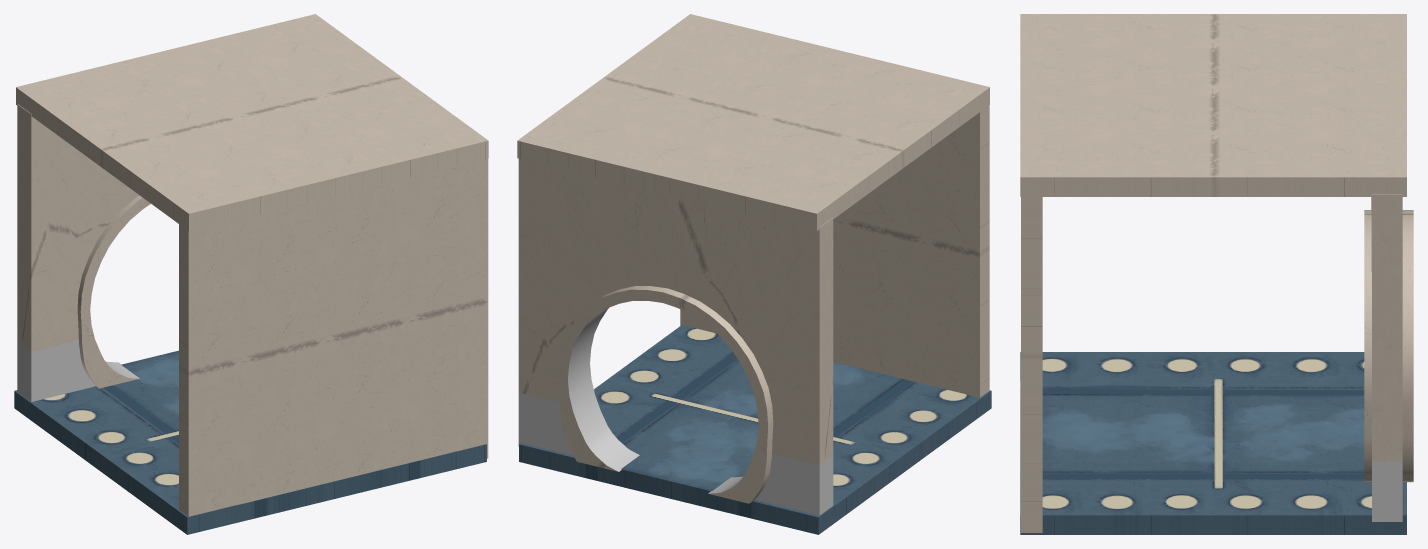
Rendered from scifiassets01.fbx.
The picture shows the model from 3 angles, left to right: view 1: azimuth 30°, elevation 25°; view 2: azimuth 150°, elevation 25°; view 3: azimuth 270°, elevation 25°; orthographic projection. The views are drawn at different scales.
Visible parts, largest first — view 1: pPlane12.009, pPlane12.008, polySurface542.003, pPlane12.007; view 2: polySurface542.003, pPlane12.008, pPlane12.007, pPlane12.009; view 3: pPlane12.008, pPlane12.007, polySurface542.003, pPlane12.009.
Boxes of the visible parts, <box> form: pPlane12.009: <box>179,158,488,516</box>; pPlane12.008: <box>16,14,488,231</box>; polySurface542.003: <box>17,104,150,401</box>; pPlane12.007: <box>14,350,486,534</box>; polySurface542.003: <box>518,158,833,515</box>; pPlane12.008: <box>517,14,989,231</box>; pPlane12.007: <box>519,325,991,534</box>; pPlane12.009: <box>680,92,989,397</box>; pPlane12.008: <box>1020,14,1406,196</box>; pPlane12.007: <box>1020,352,1406,534</box>; polySurface542.003: <box>1364,194,1413,521</box>; pPlane12.009: <box>1021,182,1042,532</box>.
Bounding box in the file's own units: 274 × 278 × 277.
